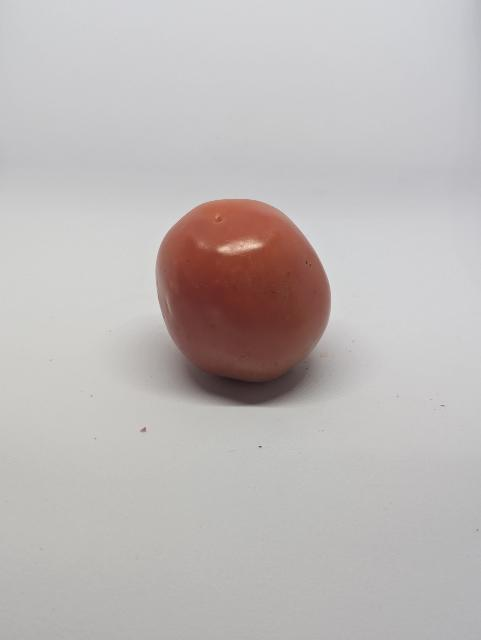red: (151, 191, 334, 395)
